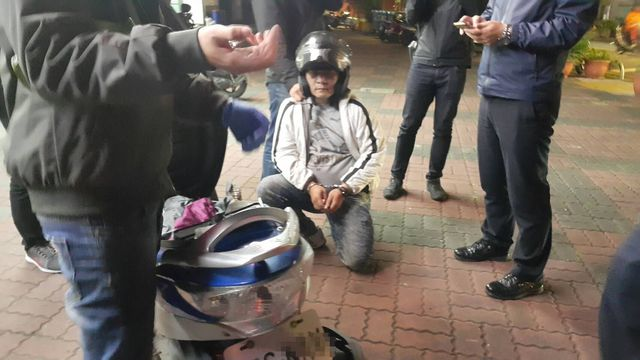helmet: (289, 24, 355, 69)
